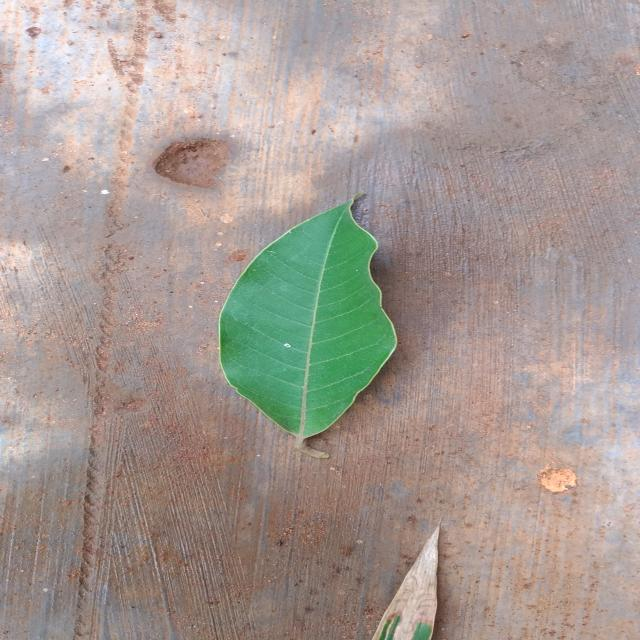coffee: (220, 192, 398, 459)
